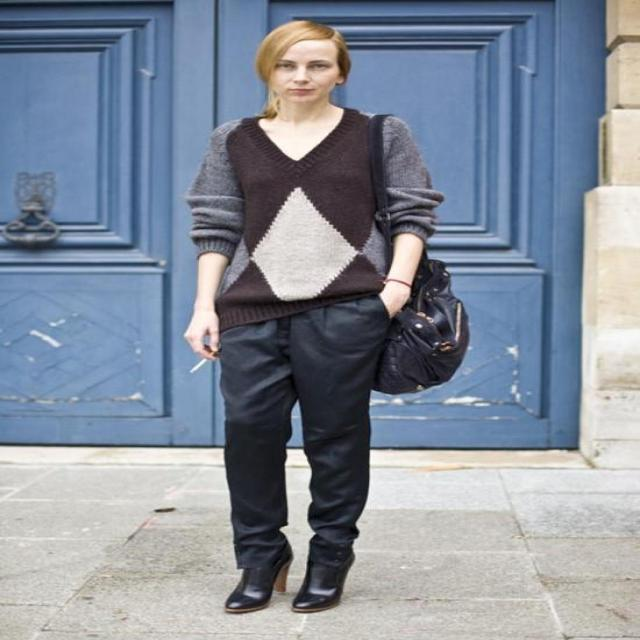pants: (221, 291, 389, 568)
sweater: (185, 108, 445, 331)
